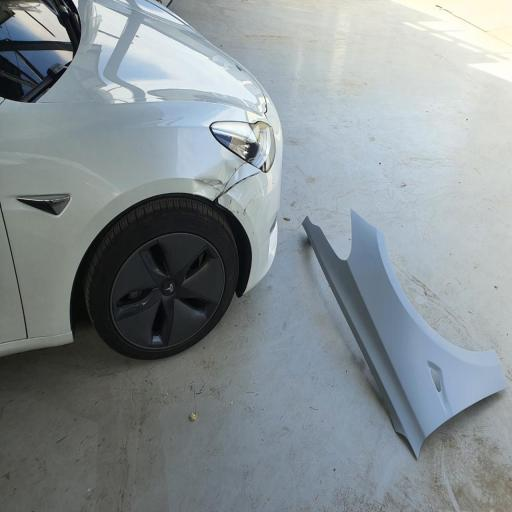dent: (184, 126, 271, 224)
